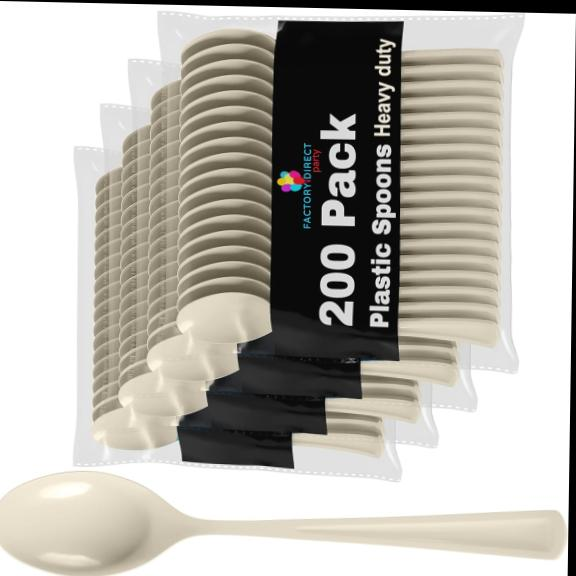Plastik: (0, 471, 566, 575)
